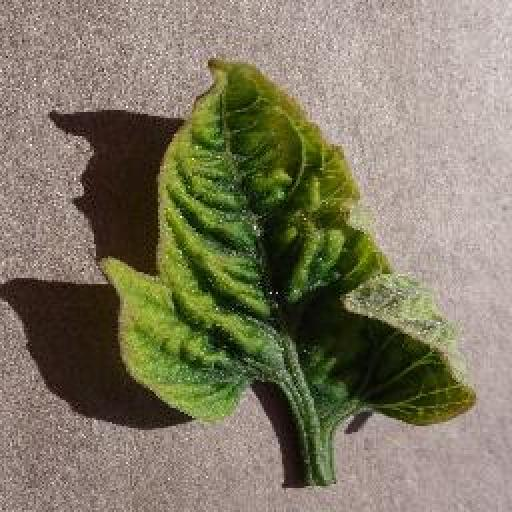Yellow Leaf Curl Virus: (99, 53, 478, 424)
